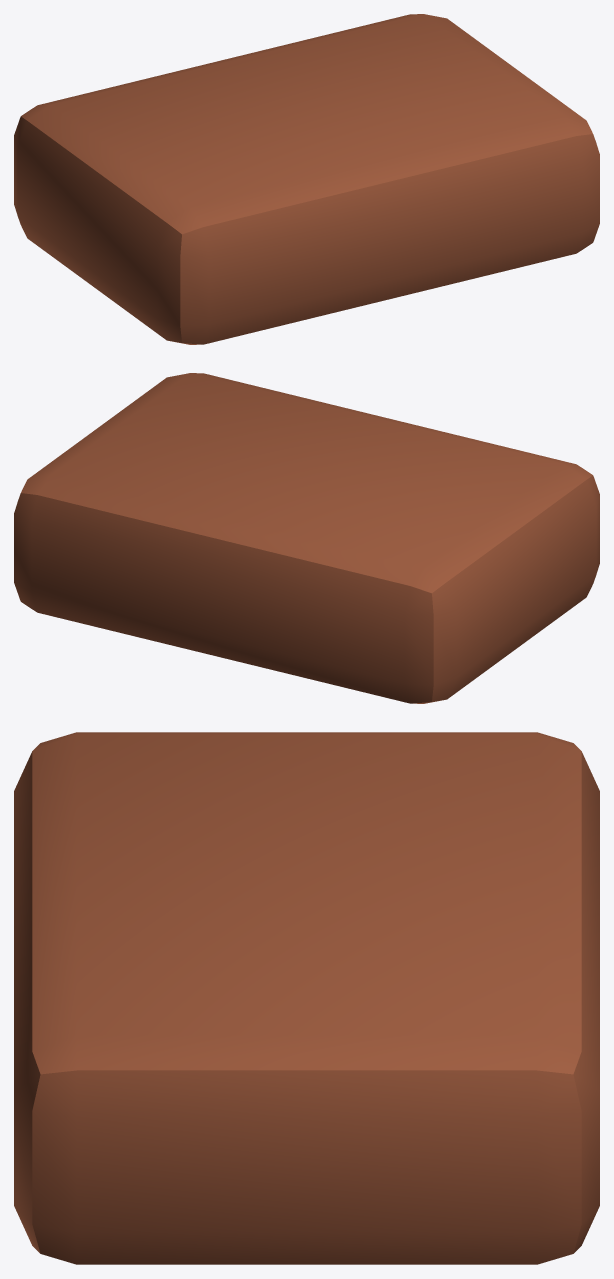
Rendered from dishwasher_power_button.glb.
3 views of the same model, one above another, from view 1: azimuth 30°, elevation 25°; view 2: azimuth 150°, elevation 25°; view 3: azimuth 270°, elevation 25° (orthographic). The views are drawn at different scales.
Visible parts, largest first — view 1: dishwasher_power_button_x; view 2: dishwasher_power_button_x; view 3: dishwasher_power_button_x.
Boxes of the visible parts, box(x1,y1,x2,y2) form: dishwasher_power_button_x: box(14, 14, 599, 344); dishwasher_power_button_x: box(14, 373, 599, 703); dishwasher_power_button_x: box(14, 732, 599, 1264).
Size of the model in its own units: 0.02 by 0.006 by 0.014.
